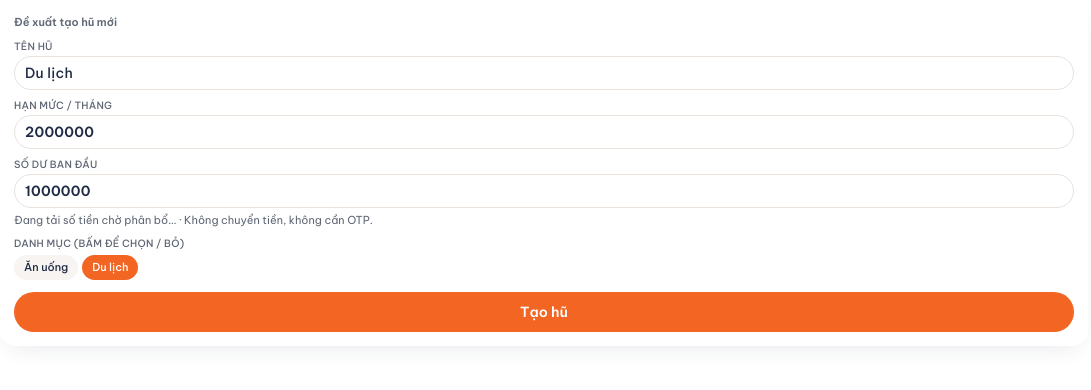
Test: AgentJarFormCard — create with an opening balance › funds loading: a funded balance waits instead of guessing
Click the button "Tạo hũ". click: (544, 312)
box: top-left (14, 292), bottom-right (1074, 332)
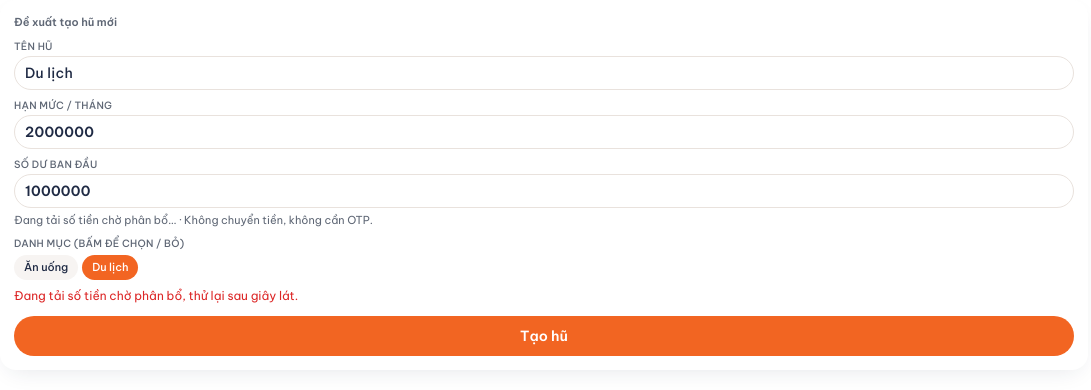
Check: the message shows "Đang tải số tiền chờ phân bổ", box top-left (14, 288), bottom-right (298, 302)
